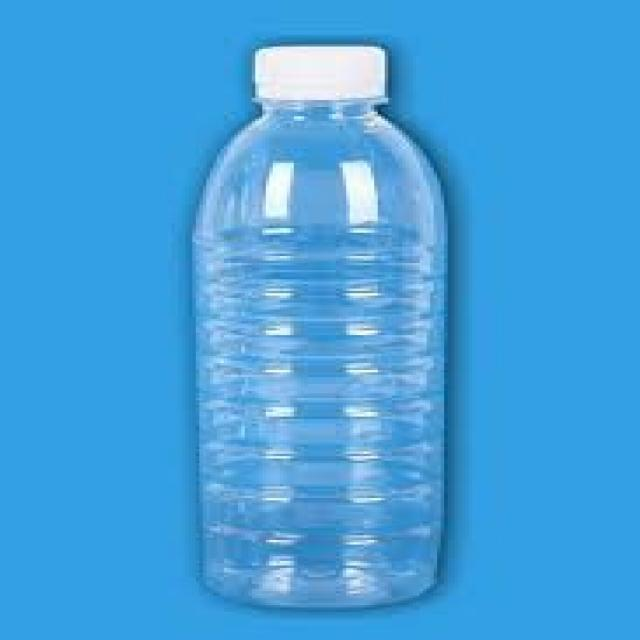Plastic: (199, 43, 447, 609)
